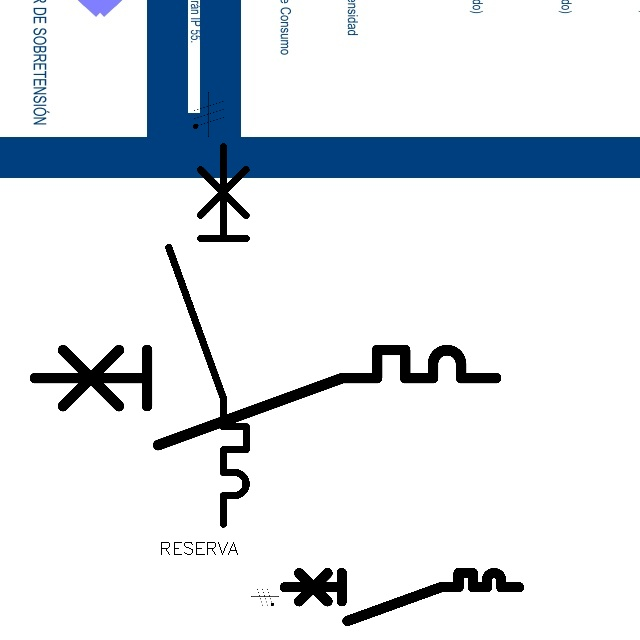interruptor_termomagnetico: (23, 338, 508, 457), (159, 136, 256, 533), (278, 567, 524, 627)
